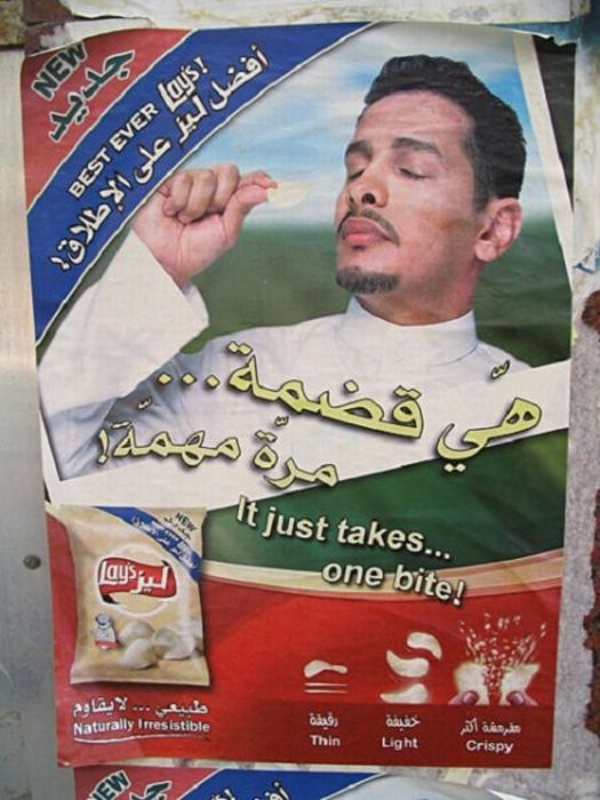text: (465, 355, 480, 477), (481, 355, 496, 477), (497, 355, 512, 477), (513, 355, 528, 477), (161, 321, 176, 443), (177, 321, 192, 443), (193, 321, 208, 443), (209, 321, 224, 443), (225, 321, 240, 443), (241, 321, 256, 443), (257, 321, 272, 443), (273, 321, 288, 443), (289, 321, 304, 443), (305, 321, 320, 443), (321, 321, 336, 443), (337, 321, 352, 443), (353, 321, 368, 443), (369, 321, 384, 443), (385, 321, 400, 443), (401, 321, 416, 443), (417, 321, 432, 443), (49, 34, 64, 150), (65, 34, 80, 150), (81, 34, 96, 150), (97, 34, 112, 150), (113, 34, 128, 150), (129, 34, 144, 150), (450, 355, 464, 477), (529, 355, 542, 477), (49, 172, 64, 274), (65, 172, 80, 274), (81, 172, 96, 274), (97, 172, 112, 274), (113, 172, 128, 274), (273, 407, 288, 508), (289, 407, 304, 508), (305, 407, 320, 508), (321, 407, 336, 508), (35, 34, 48, 150), (113, 388, 128, 470), (129, 388, 144, 470), (145, 388, 160, 470), (161, 388, 176, 470), (177, 388, 192, 470), (193, 388, 208, 470), (209, 388, 224, 470), (225, 388, 240, 470), (129, 172, 141, 274), (337, 407, 349, 508), (209, 42, 224, 118), (225, 42, 240, 118), (241, 42, 256, 118), (257, 42, 272, 118), (261, 407, 272, 508), (99, 388, 112, 470), (33, 34, 48, 105), (49, 34, 64, 105), (65, 34, 80, 105), (129, 123, 144, 191), (145, 123, 160, 191), (161, 123, 176, 191), (161, 54, 176, 118), (177, 54, 192, 118), (193, 54, 208, 118), (81, 140, 96, 201), (97, 140, 112, 201), (196, 42, 208, 118), (177, 90, 192, 148), (193, 90, 208, 148), (113, 101, 128, 156), (129, 101, 144, 156), (145, 101, 160, 156), (353, 511, 368, 561), (369, 511, 384, 561), (385, 511, 400, 561), (401, 511, 416, 561), (417, 511, 432, 561), (433, 511, 448, 561), (68, 140, 80, 201), (22, 34, 32, 105), (401, 562, 416, 606), (417, 562, 432, 606), (433, 562, 448, 606), (449, 562, 464, 606), (340, 511, 352, 561), (241, 492, 256, 531), (273, 506, 288, 545), (289, 506, 304, 545), (305, 506, 320, 545), (167, 90, 176, 148), (43, 172, 48, 274), (97, 764, 112, 798), (113, 764, 128, 798), (121, 123, 128, 191), (145, 566, 160, 597), (83, 764, 96, 798), (81, 34, 87, 105), (129, 772, 144, 799), (145, 772, 160, 799), (161, 772, 176, 799), (131, 566, 144, 597), (369, 563, 385, 588), (321, 506, 331, 545), (105, 101, 112, 156), (154, 54, 160, 118), (337, 563, 352, 588), (353, 563, 368, 588), (113, 562, 128, 587), (177, 516, 192, 541), (157, 321, 160, 443), (209, 90, 215, 148), (465, 718, 481, 739), (161, 699, 176, 721), (177, 699, 192, 721), (193, 699, 208, 721), (81, 697, 96, 719), (97, 697, 112, 719), (209, 54, 214, 118), (321, 711, 336, 732), (257, 492, 265, 531), (113, 140, 118, 201), (100, 562, 112, 587), (401, 713, 416, 733), (81, 718, 96, 738), (97, 718, 112, 738), (113, 718, 128, 738), (497, 719, 512, 738), (386, 713, 400, 733), (161, 566, 170, 597), (257, 779, 272, 797), (273, 779, 288, 797), (482, 719, 496, 738), (181, 510, 192, 533), (449, 511, 454, 561), (326, 563, 336, 588), (481, 739, 496, 755), (497, 739, 512, 755), (145, 34, 147, 150), (309, 711, 320, 732), (129, 562, 138, 587), (145, 718, 160, 733), (161, 718, 176, 733), (177, 718, 192, 733), (193, 718, 208, 733), (114, 697, 128, 713), (467, 739, 480, 755), (129, 764, 135, 798), (267, 506, 272, 545), (321, 734, 336, 747), (385, 738, 400, 751), (401, 738, 416, 751), (193, 510, 201, 533), (513, 719, 522, 738), (241, 388, 243, 470), (73, 697, 80, 719), (273, 42, 275, 118), (170, 516, 176, 541), (73, 718, 80, 738), (177, 123, 179, 191), (310, 734, 320, 747), (433, 321, 434, 443), (129, 718, 135, 738), (161, 101, 163, 156), (155, 699, 160, 721), (417, 713, 422, 733), (193, 516, 197, 541), (129, 707, 144, 713), (138, 718, 144, 733), (398, 562, 400, 606), (465, 562, 467, 606), (513, 739, 518, 755), (238, 492, 240, 531), (289, 779, 293, 797), (337, 734, 342, 747), (461, 718, 464, 739), (337, 711, 340, 732), (126, 772, 128, 799), (145, 707, 153, 713), (209, 718, 212, 733), (113, 697, 115, 719), (417, 738, 420, 751), (177, 772, 178, 799), (382, 738, 384, 751), (209, 699, 210, 721), (255, 779, 256, 797)
